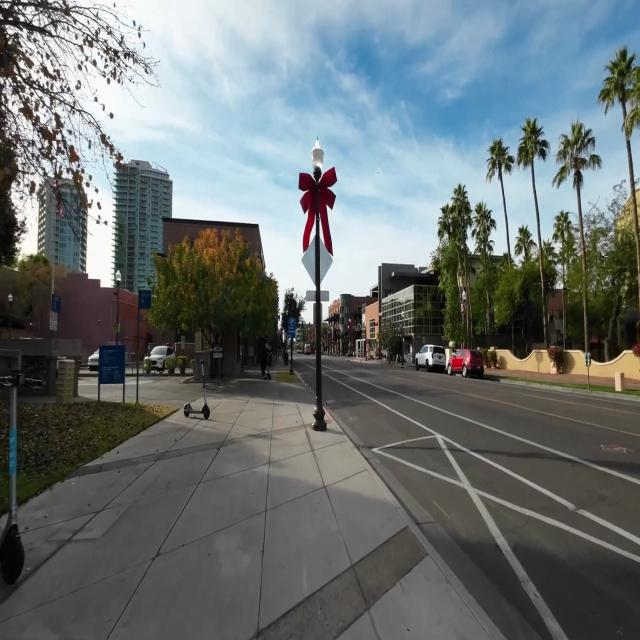road: (325, 361, 640, 639)
side walk: (0, 393, 507, 639)
street sign: (299, 144, 336, 404)
